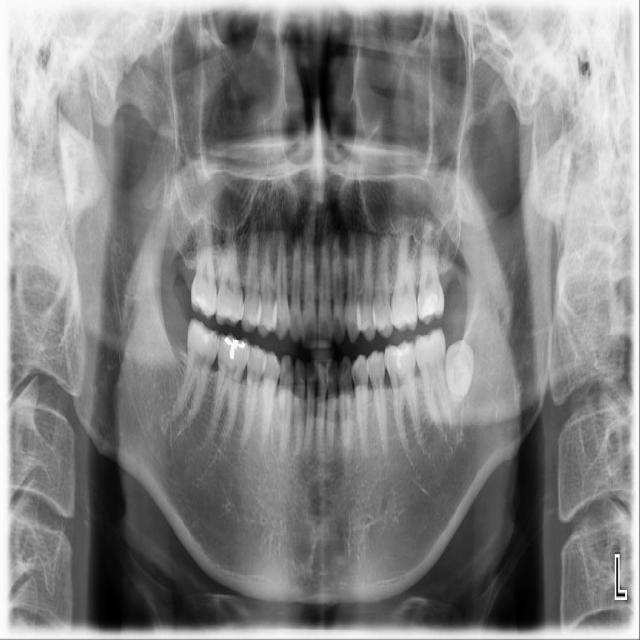Filling: (224, 336, 246, 359), (422, 294, 441, 318), (395, 343, 411, 370), (204, 331, 217, 344)
impacted tooth: (443, 342, 474, 406)
